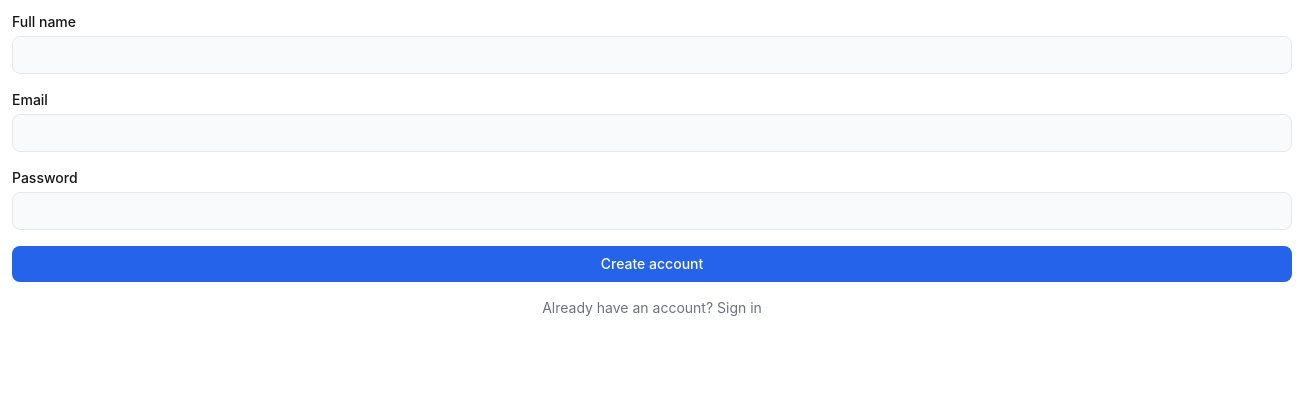
it: RegisterForm › validates required fields on empty submit
Click the button "Create account" at (652, 264), box [12,246,1292,282]
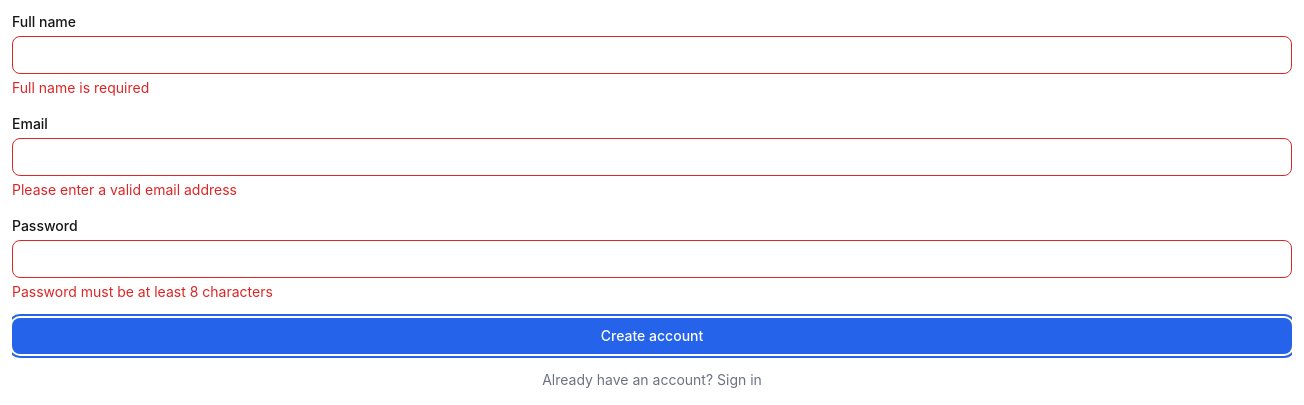
Expected: the text "Full name is required" is shown, [12,79,149,96]
Expected: the text "Please enter a valid email address" is shown, [12,181,237,198]
Expected: the text "Password must be at least 8 characters" is shown, [12,283,273,300]
